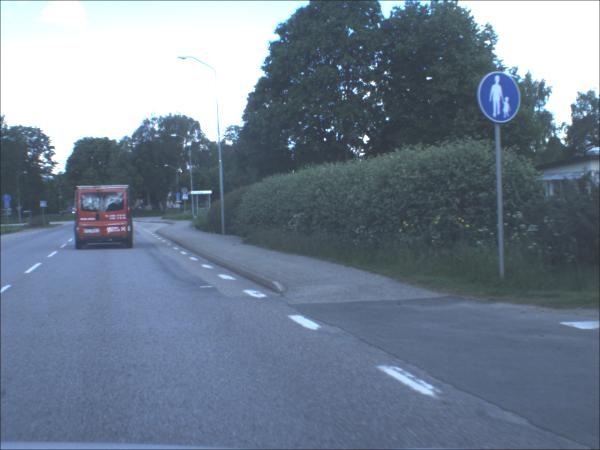PEDESTRIAN_CROSSING: (41, 202, 49, 209), (184, 195, 190, 201)
